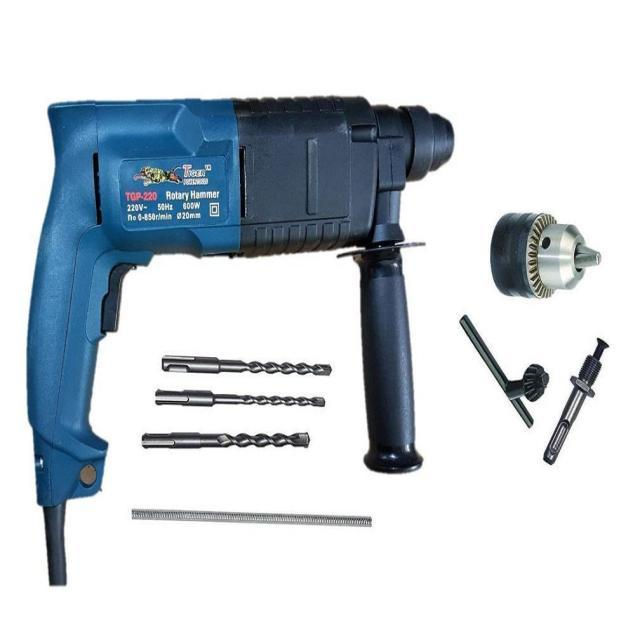drill: (26, 94, 456, 588), (490, 212, 601, 298)
